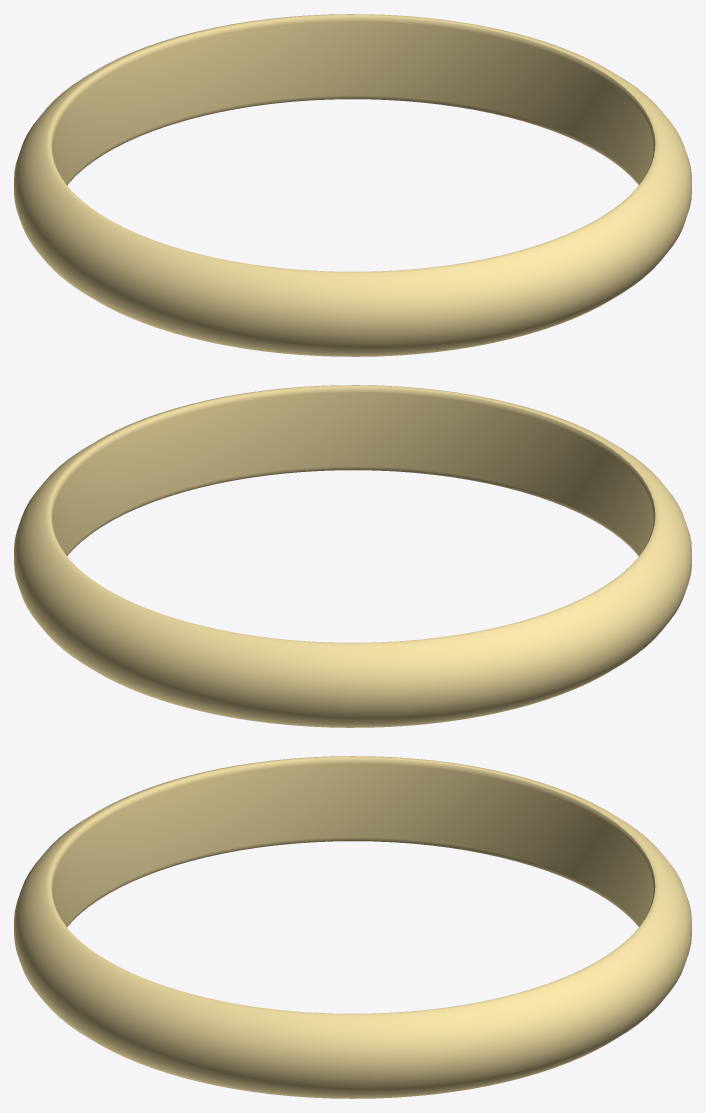
3 views of the same model, one above another, from view 1: azimuth 30°, elevation 25°; view 2: azimuth 150°, elevation 25°; view 3: azimuth 270°, elevation 25° (orthographic).
Visible parts, largest first — view 1: Base_metal, Engraving_Metal; view 2: Base_metal, Engraving_Metal; view 3: Base_metal, Engraving_Metal.
Part boxes in pixels (bbox=[...]): Base_metal: bbox=[14, 14, 691, 356]; Engraving_Metal: bbox=[50, 16, 655, 185]; Base_metal: bbox=[14, 385, 691, 727]; Engraving_Metal: bbox=[50, 387, 655, 556]; Base_metal: bbox=[14, 756, 691, 1098]; Engraving_Metal: bbox=[50, 758, 655, 926].
Size of the model in its own units: 1.4 by 0.1906 by 1.4.
